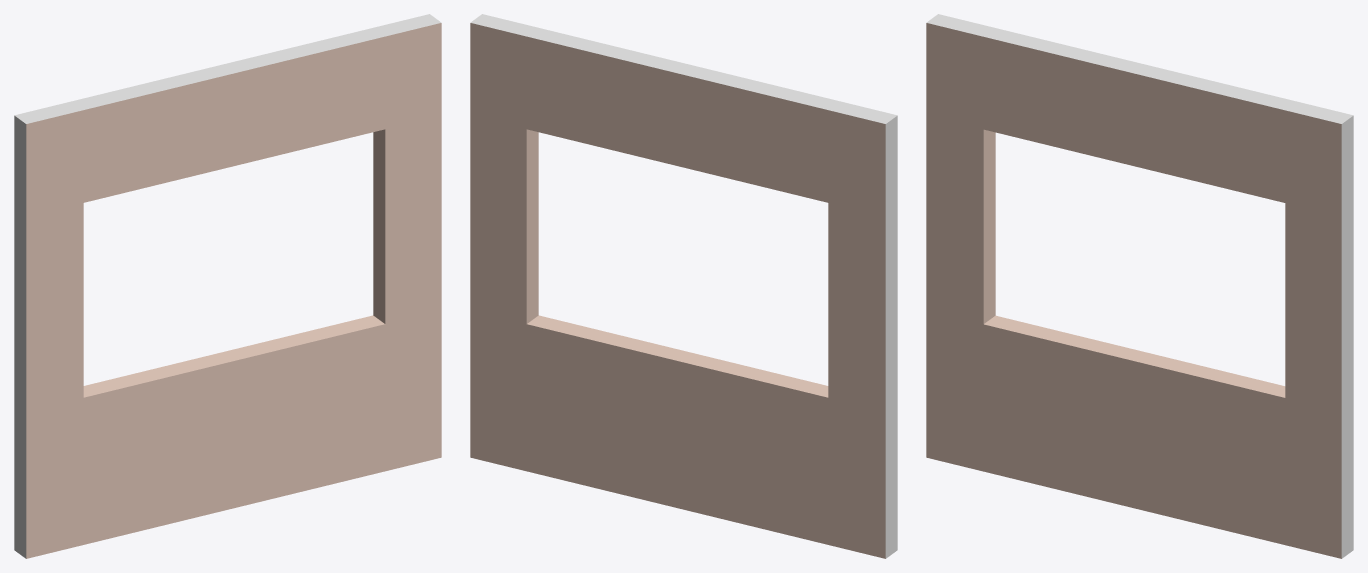
The model's file is wall_081.fbx.
3 renders of one model, left to right at view 1: azimuth 30°, elevation 25°; view 2: azimuth 150°, elevation 25°; view 3: azimuth 330°, elevation 25°, orthographic.
Parts seen in each view (by area): view 1: wall_081; view 2: wall_081; view 3: wall_081.
Boxes of the visible parts, x1=… form: wall_081: x1=14, y1=14, x2=441, y2=558; wall_081: x1=470, y1=14, x2=897, y2=558; wall_081: x1=926, y1=14, x2=1353, y2=558.
Bounding box in the file's own units: 400 × 20 × 400.
